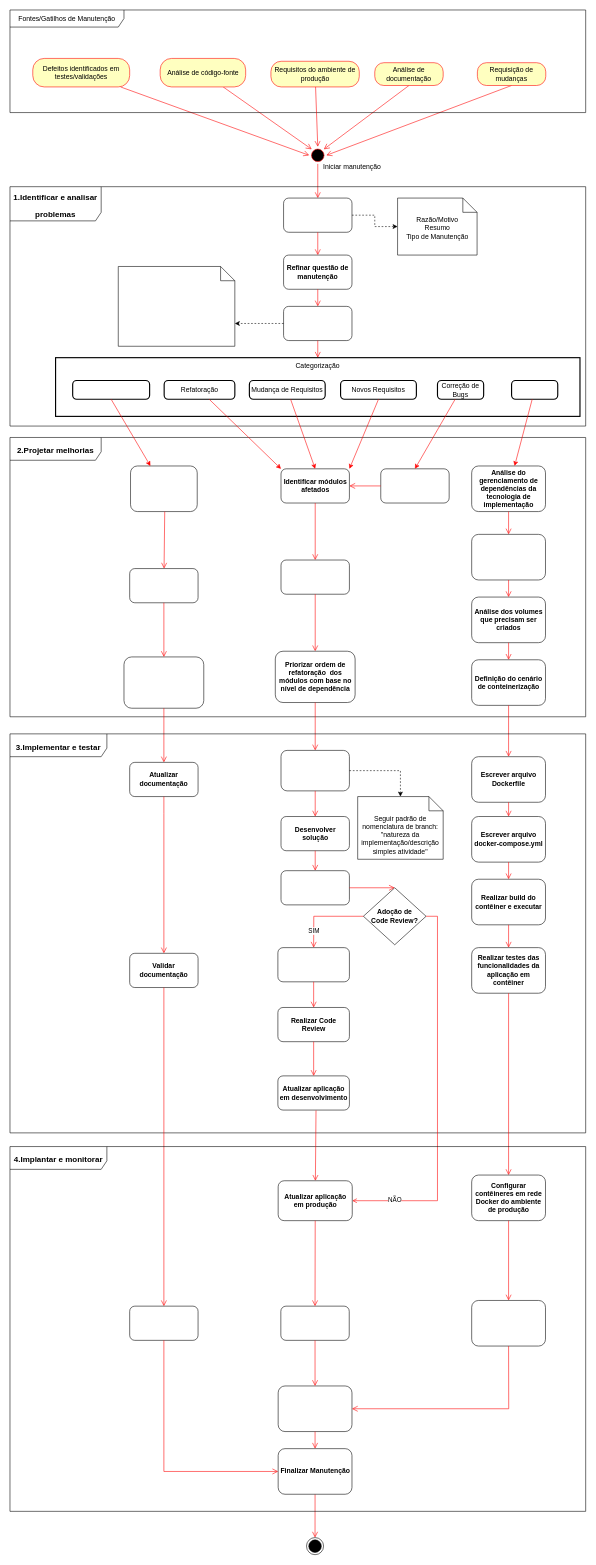
Image size: 596x1565. Some labels were removed from this diagram. The centre of each missing label's shape, as x and y in pixels:
Analisar questão de manutenção: the point at 317,323
Análise de mensagens de erro, logs da aplicação: the point at 414,485
Análise dos serviços que precisam interagir de forma independente: the point at 508,557
Atualizar documentação em produção: the point at 163,1323
Cadastrar questão de manutenção: the point at 317,215
Configurar acesso a aplicação por proxy: the point at 508,1323
Docker: the point at 534,390
Documentação: the point at 111,390
Identificar funcionalidades ausentes na documentação: the point at 163,585
Identificar funcionalidades da aplicação: the point at 163,488
Identificar instruções de usabilidade ausentes na documentação: the point at 163,682
Identificar nível de dependência entre os módulos: the point at 314,576
Iniciar branch: the point at 314,770
Iniciar Pull Request (PR): the point at 313,964
Monitorar: the point at 315,1408
Publicar alterações: the point at 314,1323
Realizar testes: the point at 314,887
Risco Impacto Categoria Responsável Descrição Estimativa: the point at 176,306
